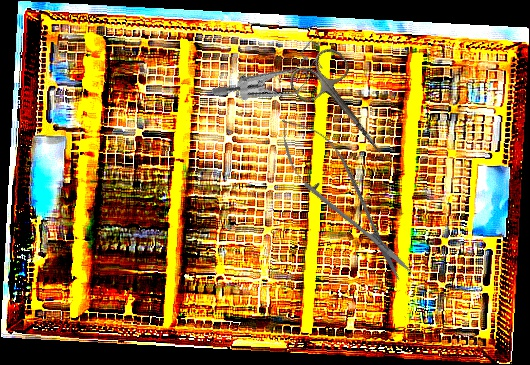Iris Scissors: (284, 42, 404, 173)
Micro Scissor: (263, 104, 426, 292)
Speculum: (209, 9, 336, 138)
